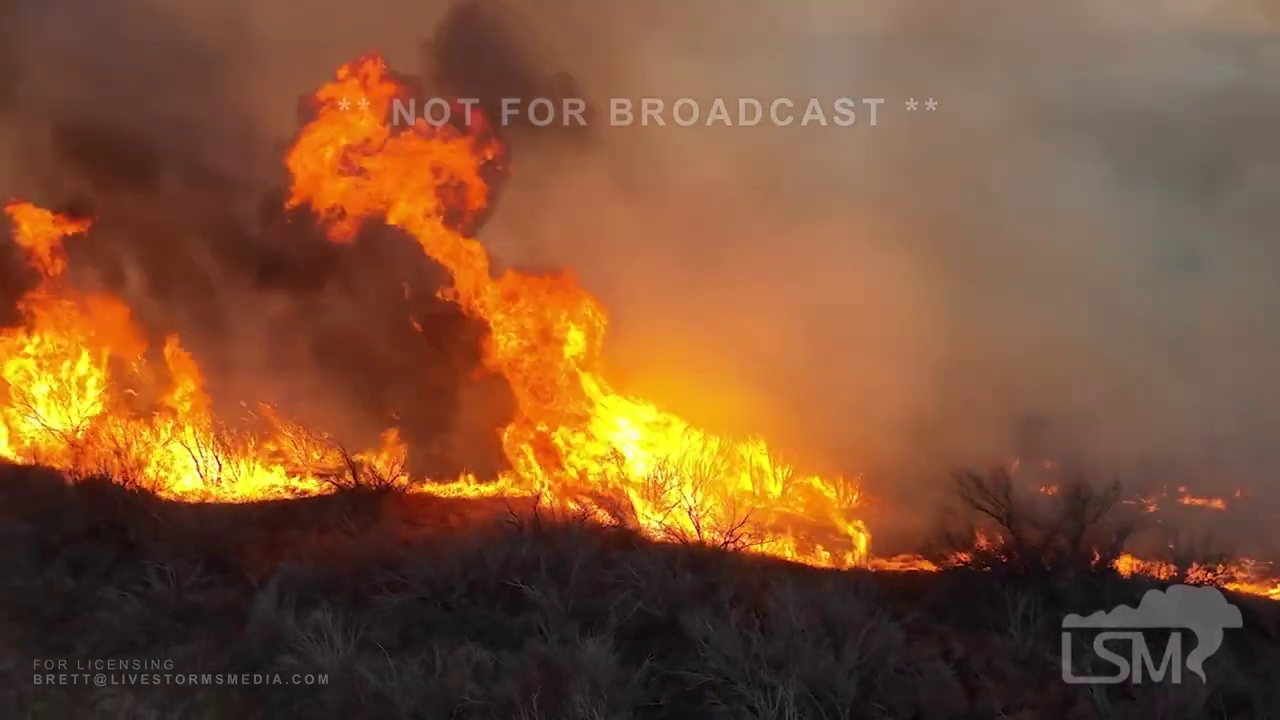forest_fire: (0, 55, 935, 569), (1193, 561, 1279, 596), (1115, 554, 1168, 577), (1177, 490, 1224, 506), (1042, 485, 1055, 492)
